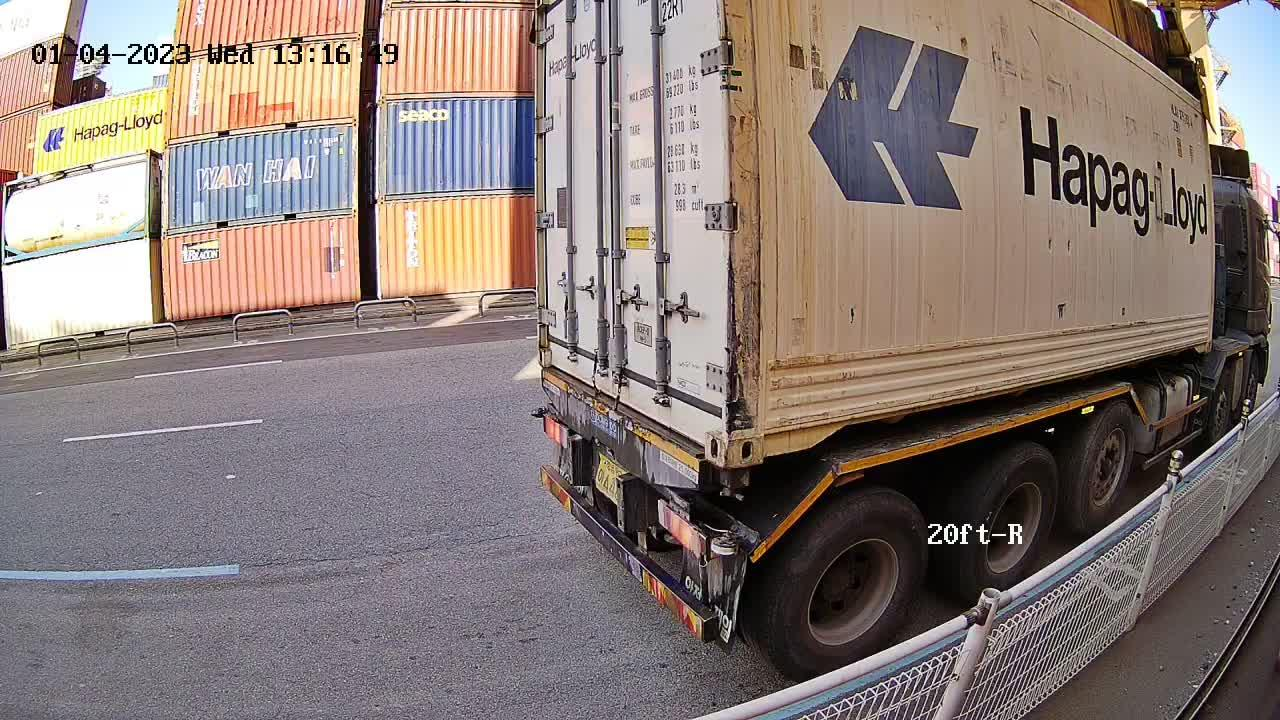Chassis: (540, 371, 710, 492)
Cone: (713, 467, 753, 507)
Hole_L: (727, 392, 787, 469), (536, 326, 569, 378)
Hole_R: (685, 386, 727, 470)
Tire: (773, 494, 931, 681), (959, 445, 1059, 598), (1071, 402, 1136, 536)
